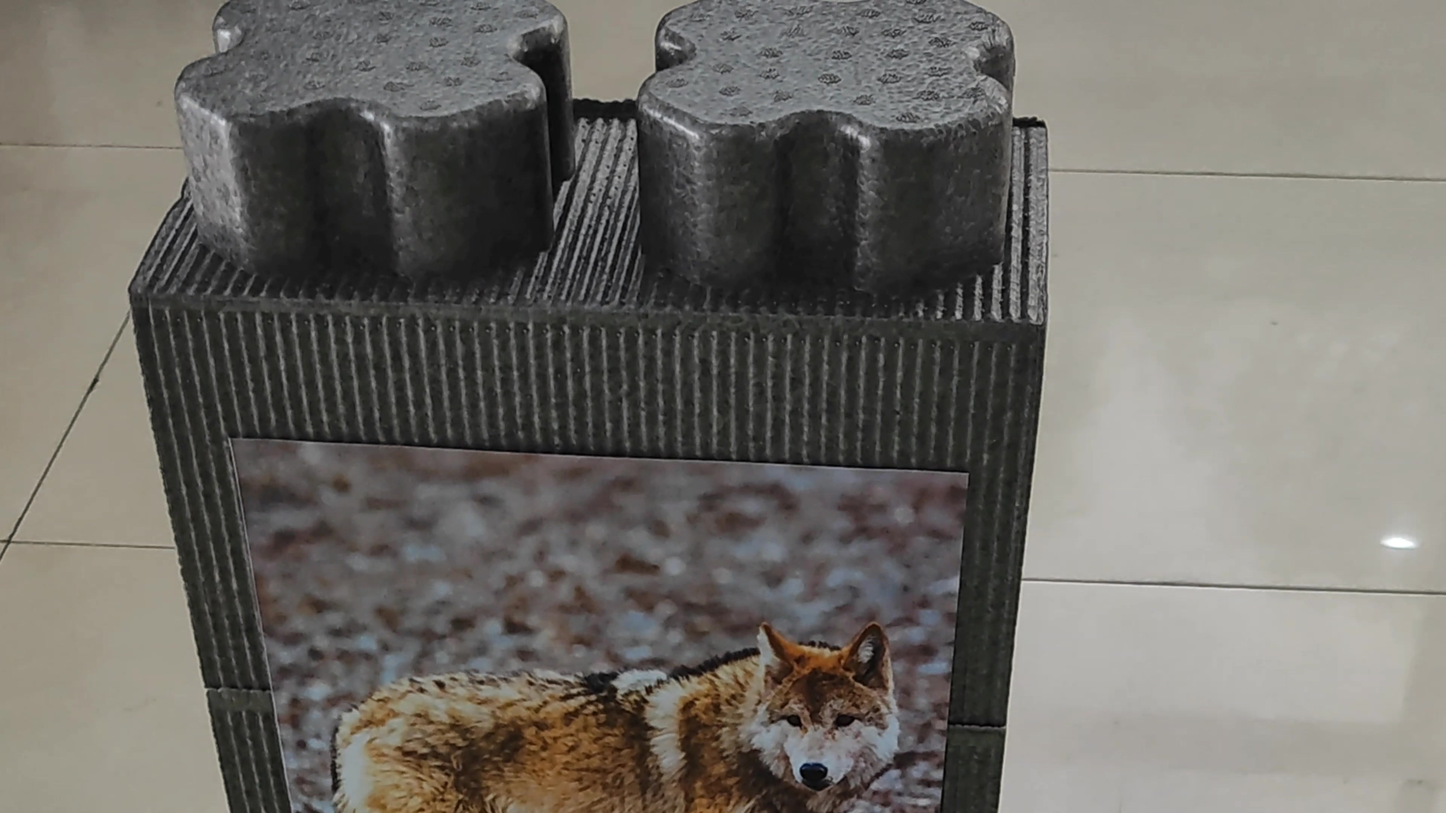wolf: (293, 588, 927, 812)
